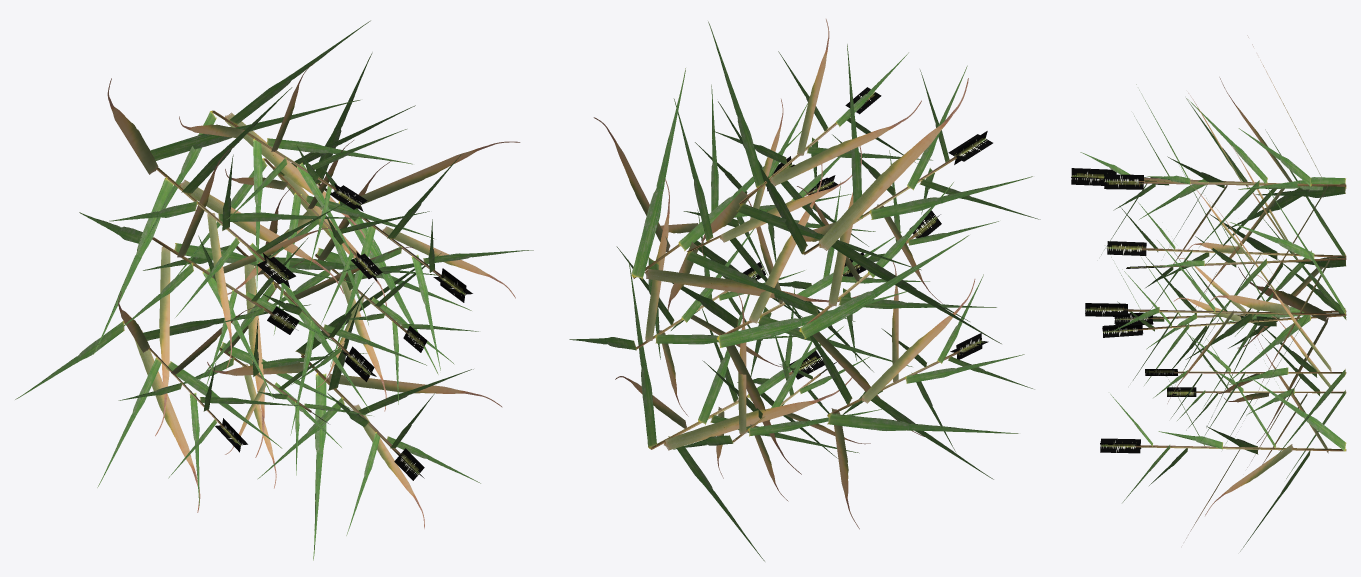
File: Spartina.obj
The picture shows the model from 3 angles, left to right: view 1: azimuth 30°, elevation 25°; view 2: azimuth 150°, elevation 25°; view 3: azimuth 270°, elevation 25°; orthographic projection. The views are drawn at different scales.
Visible parts, largest first — view 1: Group; view 2: Group; view 3: Group.
Part boxes in pixels (bbox=[...]): Group: bbox=[15, 20, 533, 560]; Group: bbox=[569, 19, 1040, 561]; Group: bbox=[1071, 35, 1346, 551].
Bounding box in the file's own units: 3.54 × 3.91 × 2.12.
4 materials, 4 textured.
